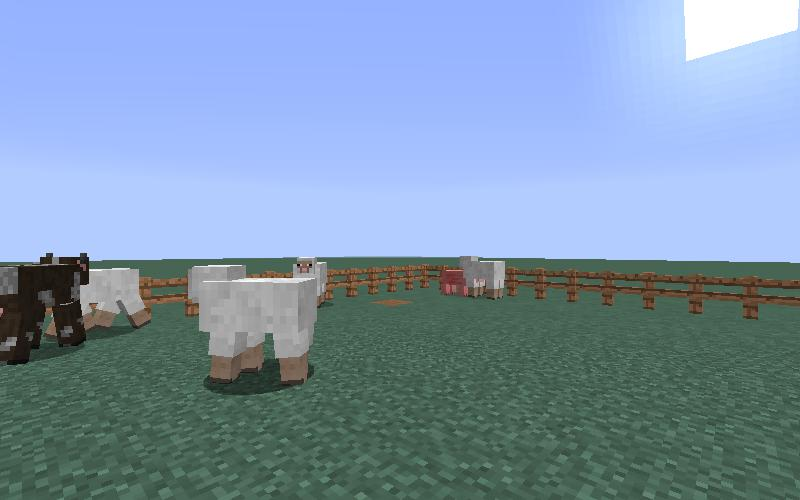cow: (1, 249, 92, 367)
pig: (441, 270, 466, 295)
sheep: (182, 256, 323, 402), (85, 268, 151, 334), (457, 253, 506, 302)
